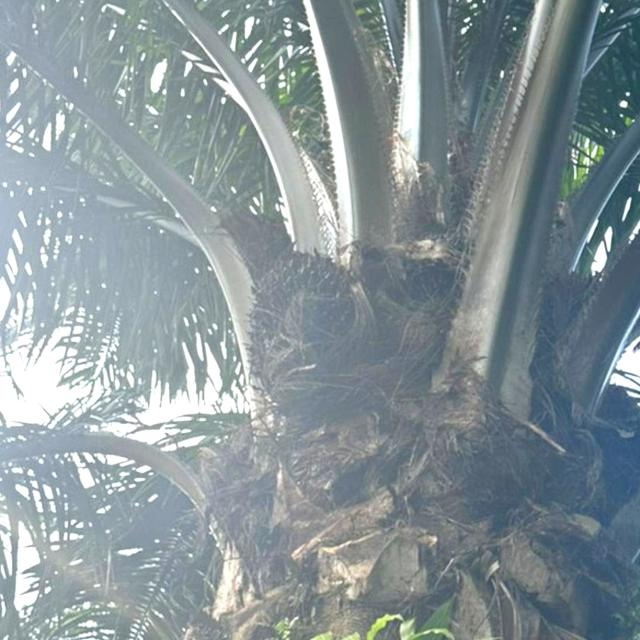unripe: (237, 241, 377, 415)
